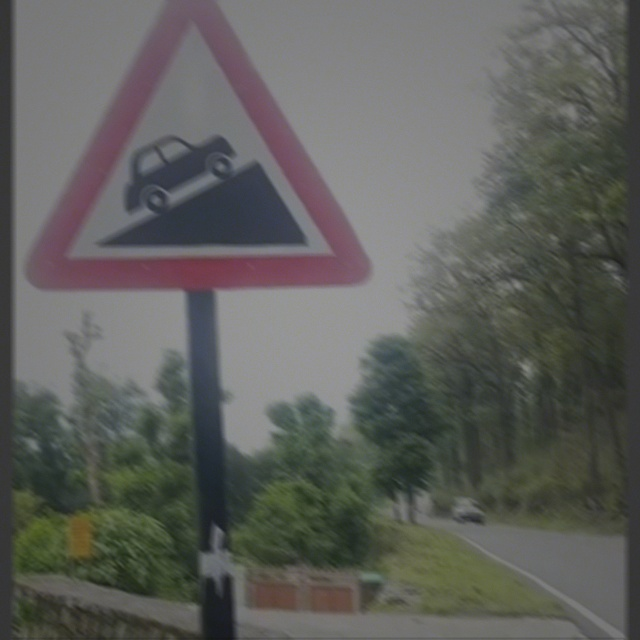Steep_Ascent: (43, 8, 367, 281)
